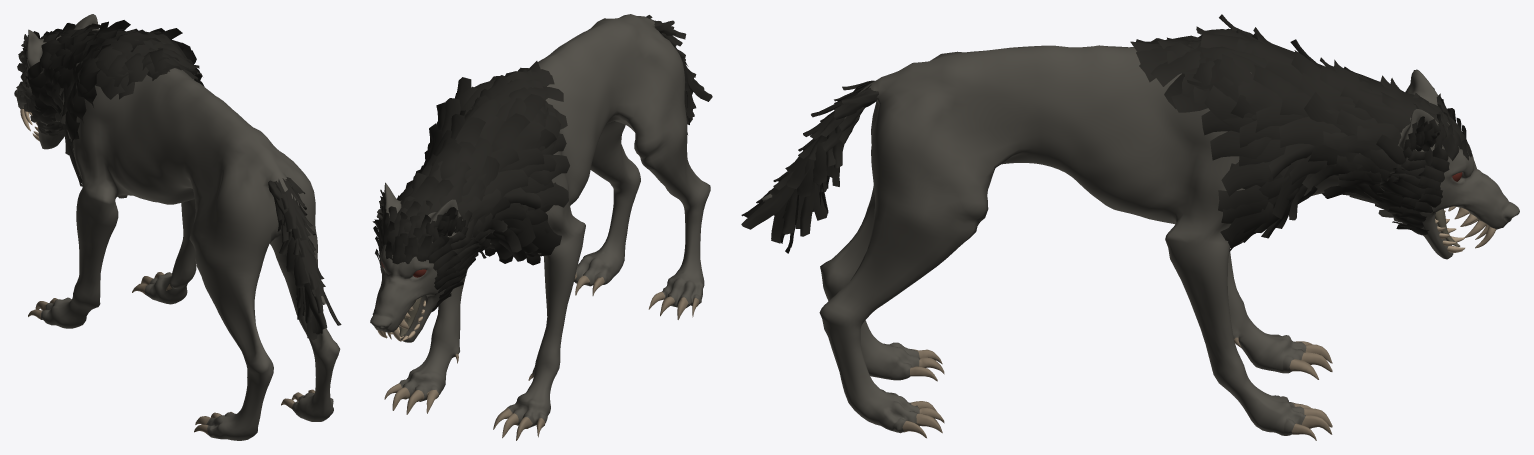
Rendered from SM_Wolf_1_lowpoly_triangulated_hairplanes_2.fbx.
3 renders of one model, left to right at view 1: azimuth 30°, elevation 25°; view 2: azimuth 150°, elevation 25°; view 3: azimuth 270°, elevation 25°, orthographic. The views are drawn at different scales.
Visible parts, largest first — view 1: Lowpoly_triangulated_hairplanes; view 2: Lowpoly_triangulated_hairplanes; view 3: Lowpoly_triangulated_hairplanes.
Part boxes in pixels (x1=…): Lowpoly_triangulated_hairplanes: x1=14, y1=14, x2=341, y2=440; Lowpoly_triangulated_hairplanes: x1=370, y1=14, x2=712, y2=440; Lowpoly_triangulated_hairplanes: x1=741, y1=14, x2=1519, y2=440.
Bounding box in the file's own units: 57.55 × 111 × 212.
